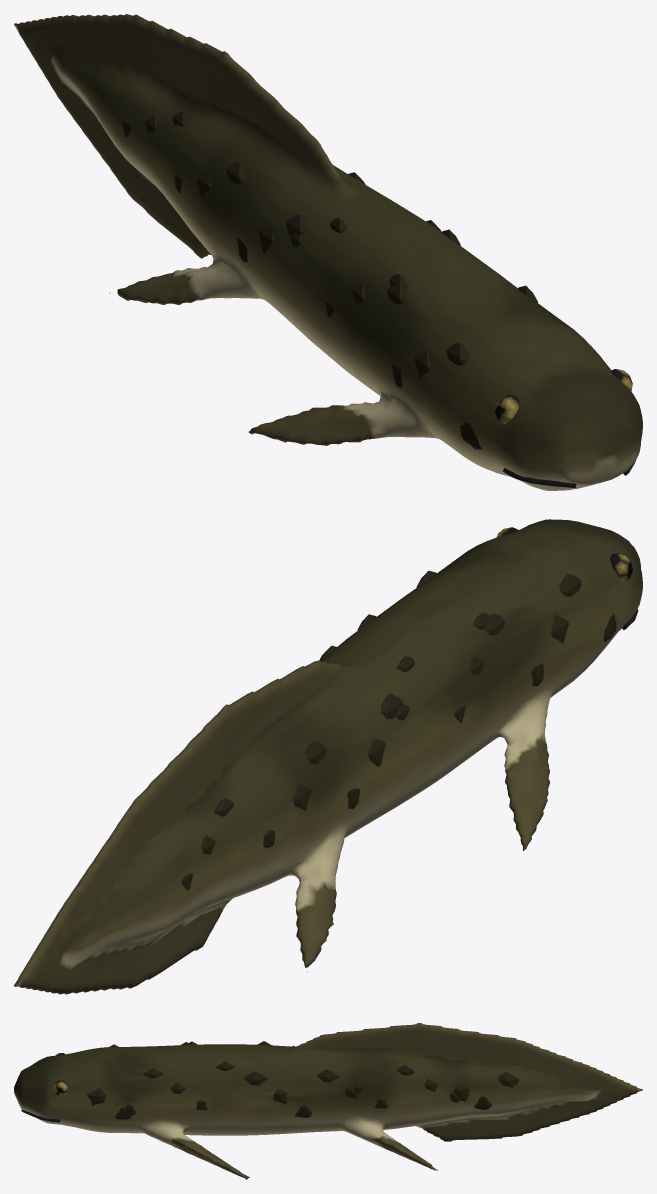
The model's file is Sagenodus.fbx.
3 renders of one model, top to bottom at view 1: azimuth 30°, elevation 25°; view 2: azimuth 150°, elevation 25°; view 3: azimuth 270°, elevation 25°, orthographic. The views are drawn at different scales.
Parts seen in each view (by area): view 1: Sagenodus; view 2: Sagenodus; view 3: Sagenodus.
Boxes of the visible parts, bbox=[...] form: Sagenodus: bbox=[14, 14, 642, 490]; Sagenodus: bbox=[14, 519, 642, 994]; Sagenodus: bbox=[14, 1023, 642, 1179].
Size of the model in its own units: 0.3507 by 0.2802 by 1.31.
